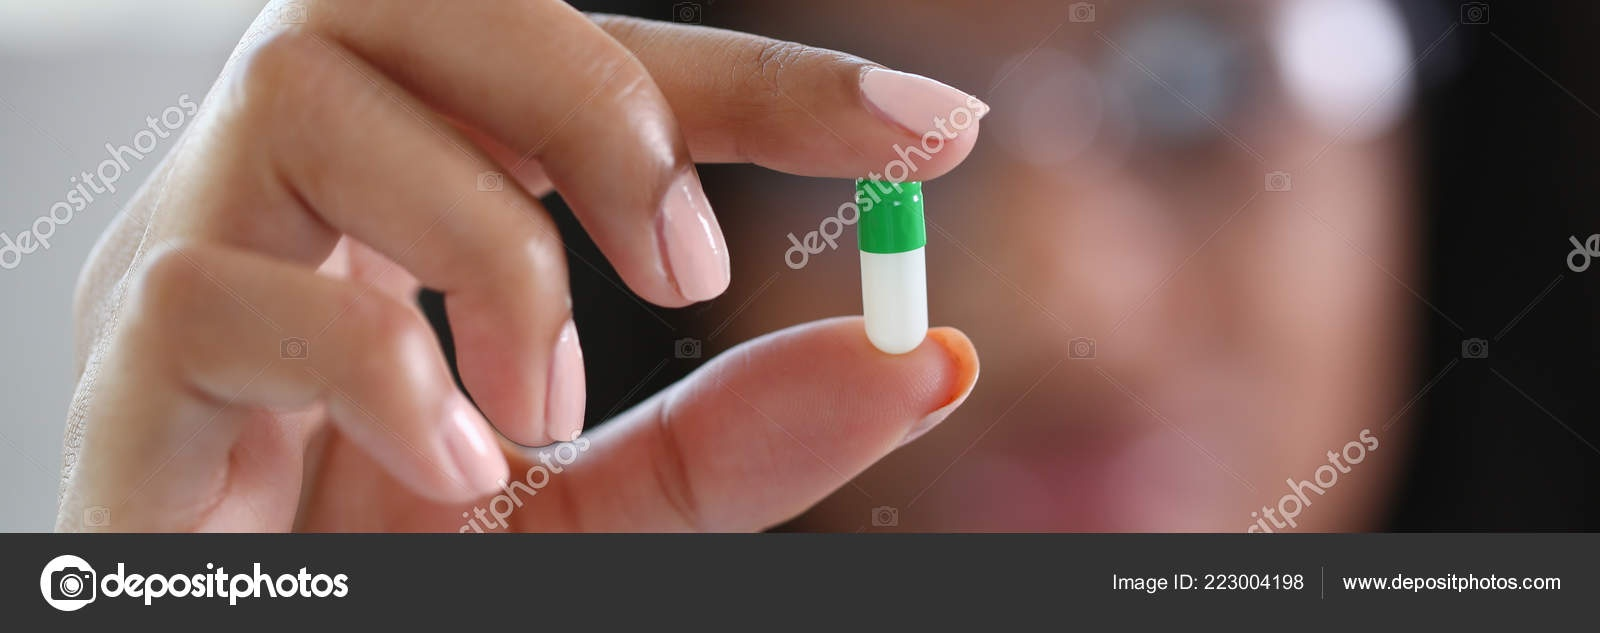pills: (854, 158, 950, 370)
